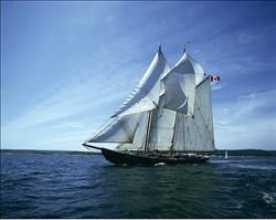fanchuan: (79, 43, 242, 167)
